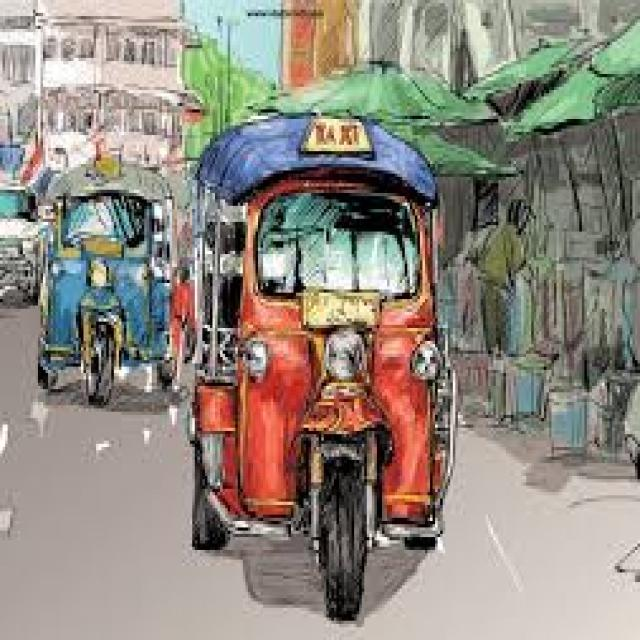tuktuk: (164, 66, 491, 640), (25, 49, 198, 423)
